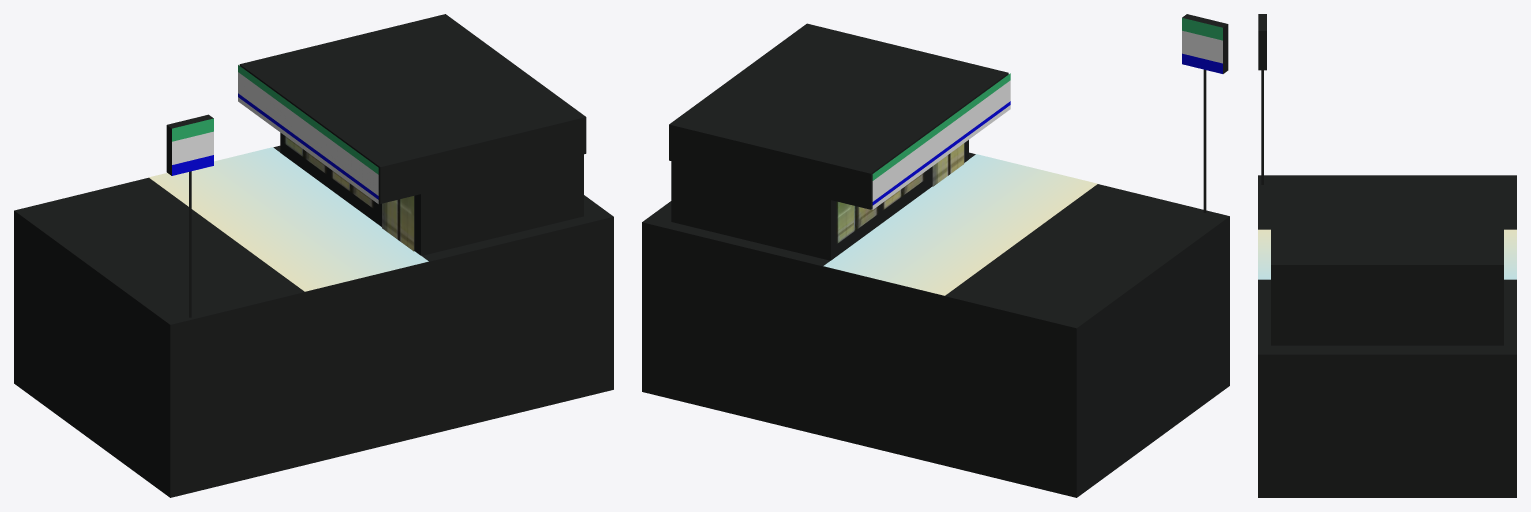
File: AMB_FAMIMA.glb
3 views of the same model, side by side, from view 1: azimuth 30°, elevation 25°; view 2: azimuth 150°, elevation 25°; view 3: azimuth 270°, elevation 25° (orthographic). The views are drawn at different scales.
Visible parts, largest first — view 1: FAMIMA; view 2: FAMIMA; view 3: FAMIMA.
Part boxes in pixels (x1,y1,x2,y2): FAMIMA: (14,14,613,497); FAMIMA: (642,14,1229,497); FAMIMA: (1258,14,1516,497).
Bounding box in the file's own units: 80.44 × 63.92 × 49.1.
6 materials, 6 textured.
